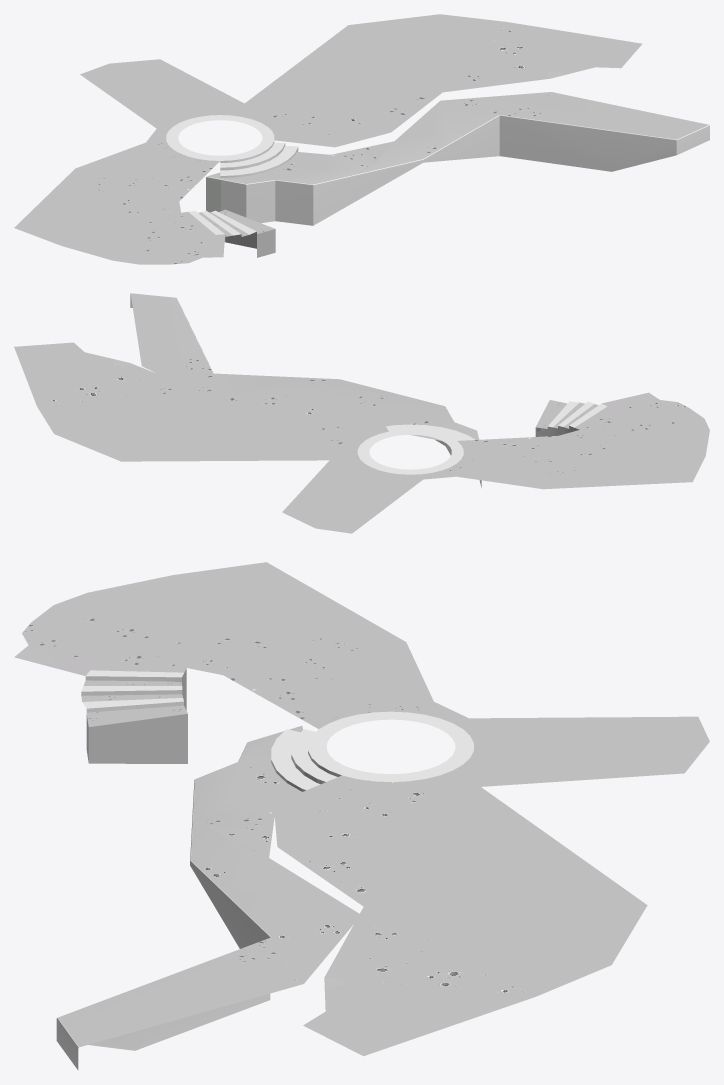
File: TownFloorA.fbx
The picture shows the model from 3 angles, top to bottom: view 1: azimuth 30°, elevation 25°; view 2: azimuth 150°, elevation 25°; view 3: azimuth 270°, elevation 25°; orthographic projection. The views are drawn at different scales.
Parts seen in each view (by area): view 1: TownFloorA; view 2: TownFloorA; view 3: TownFloorA.
Boxes of the visible parts, left/top/right/bottom form: TownFloorA: left=14, top=14, right=709, bottom=264; TownFloorA: left=14, top=293, right=709, bottom=533; TownFloorA: left=14, top=562, right=709, bottom=1070.
Size of the model in its own units: 5260 by 365 by 3131.
1 material, 1 textured.
